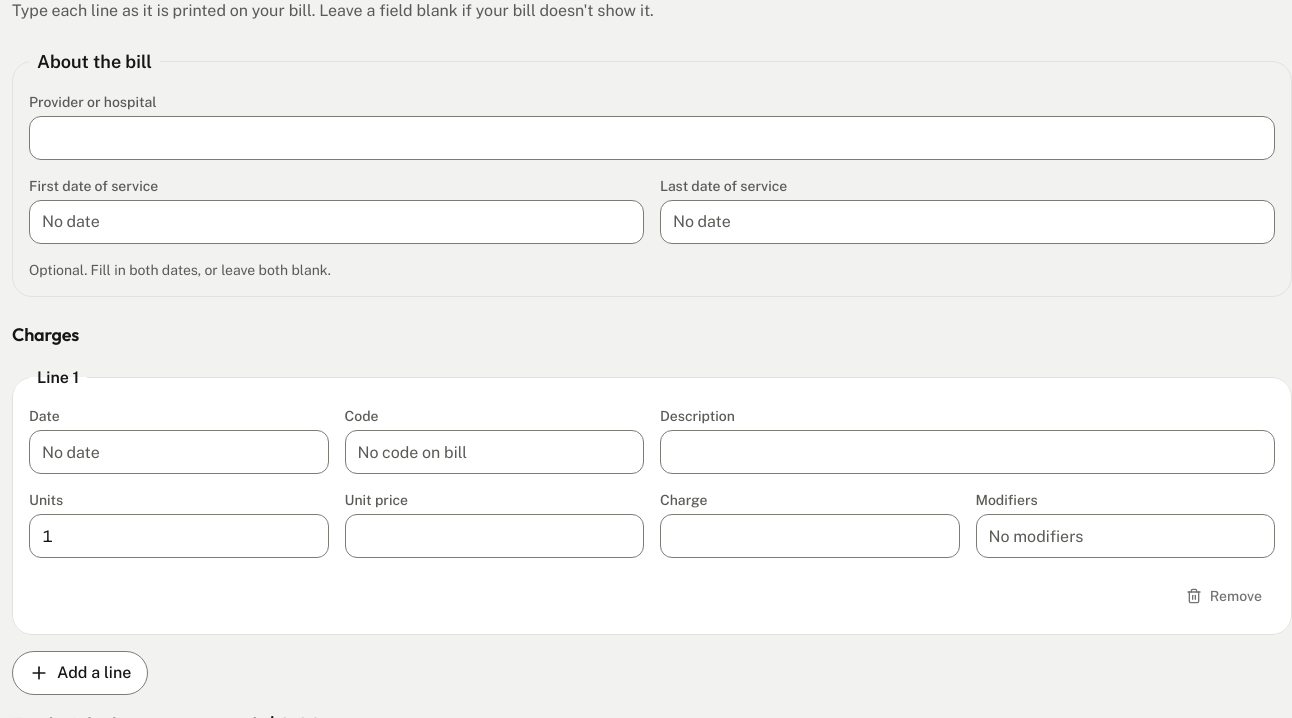
it: ManualEntryForm › shows a calm message and stays put when the server rejects
The image size is (1292, 718).
In the field labelled "Provider or hospital": (652, 138) [29, 116, 1275, 160], type "Synthetic Clinic"
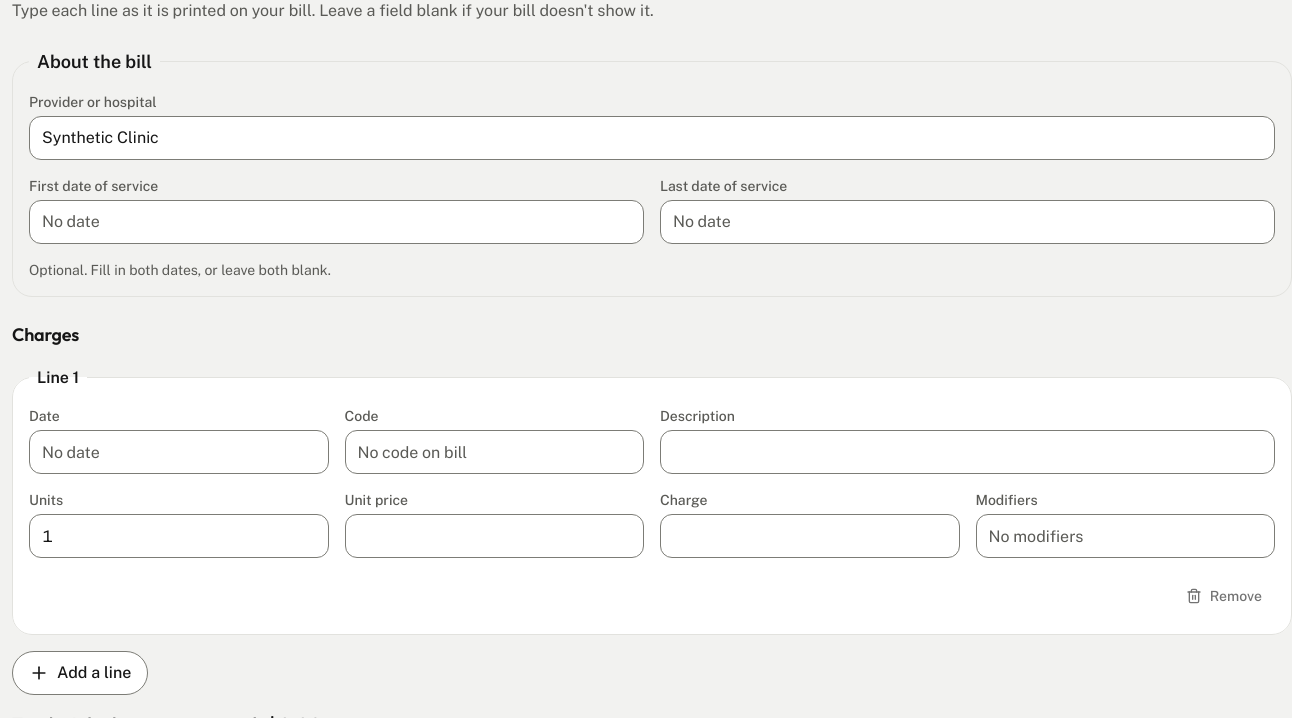
In the field named "Description, row 1": (968, 452) [660, 430, 1275, 474], type "SYNTHETIC VISIT"
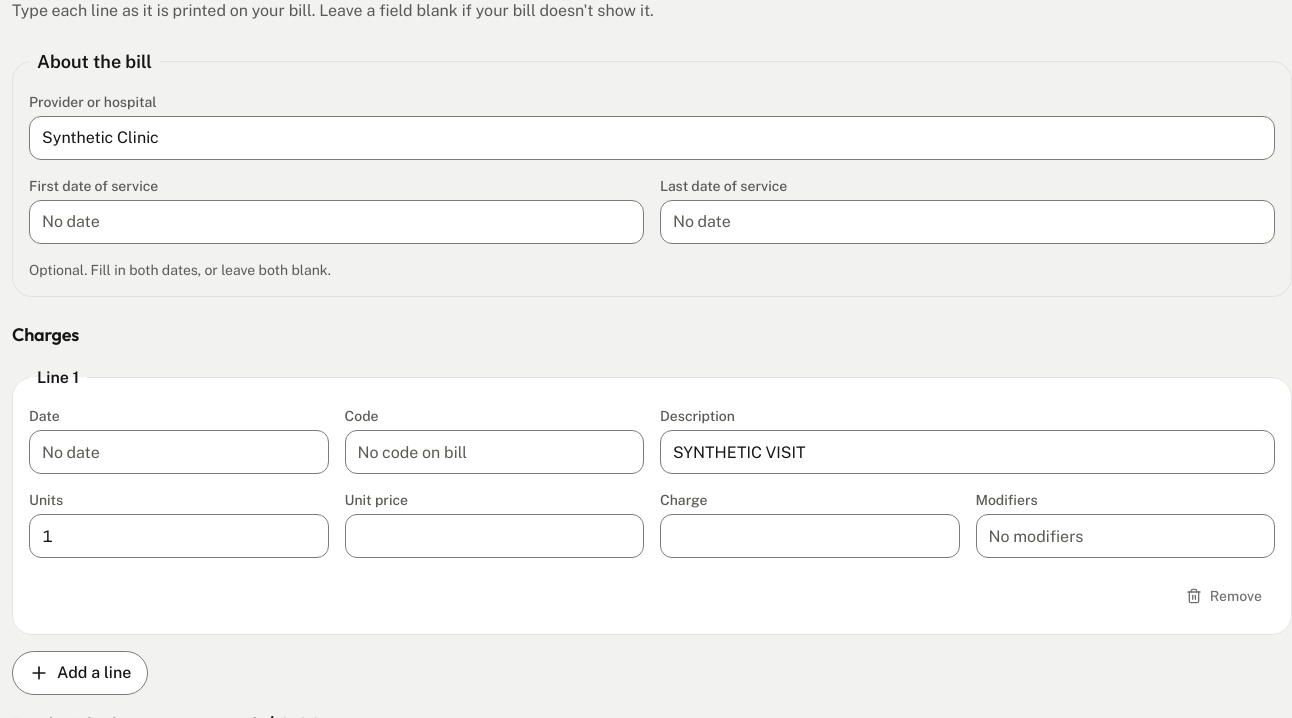
In the field named "Code, row 1": (494, 452) [344, 430, 644, 474], type "99213"
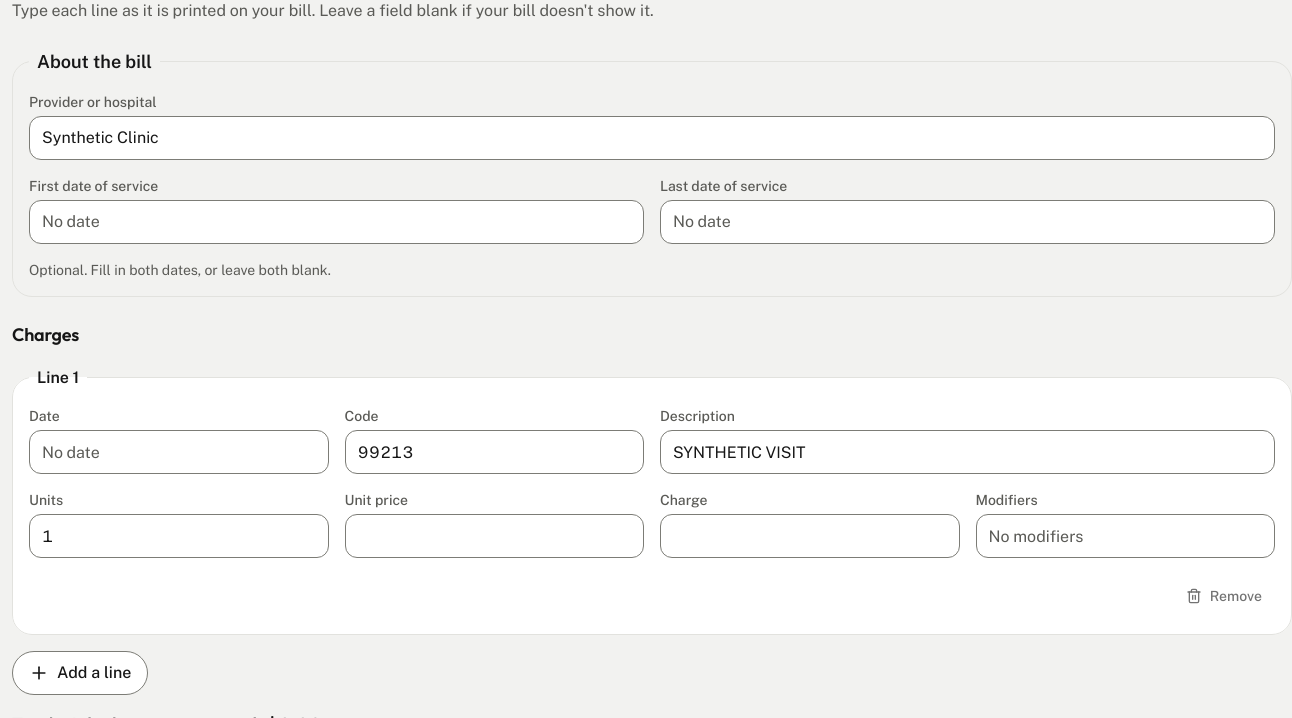
In the field named "Charge, row 1": (810, 536) [660, 514, 960, 558], type "125.00"
(page scrolled)
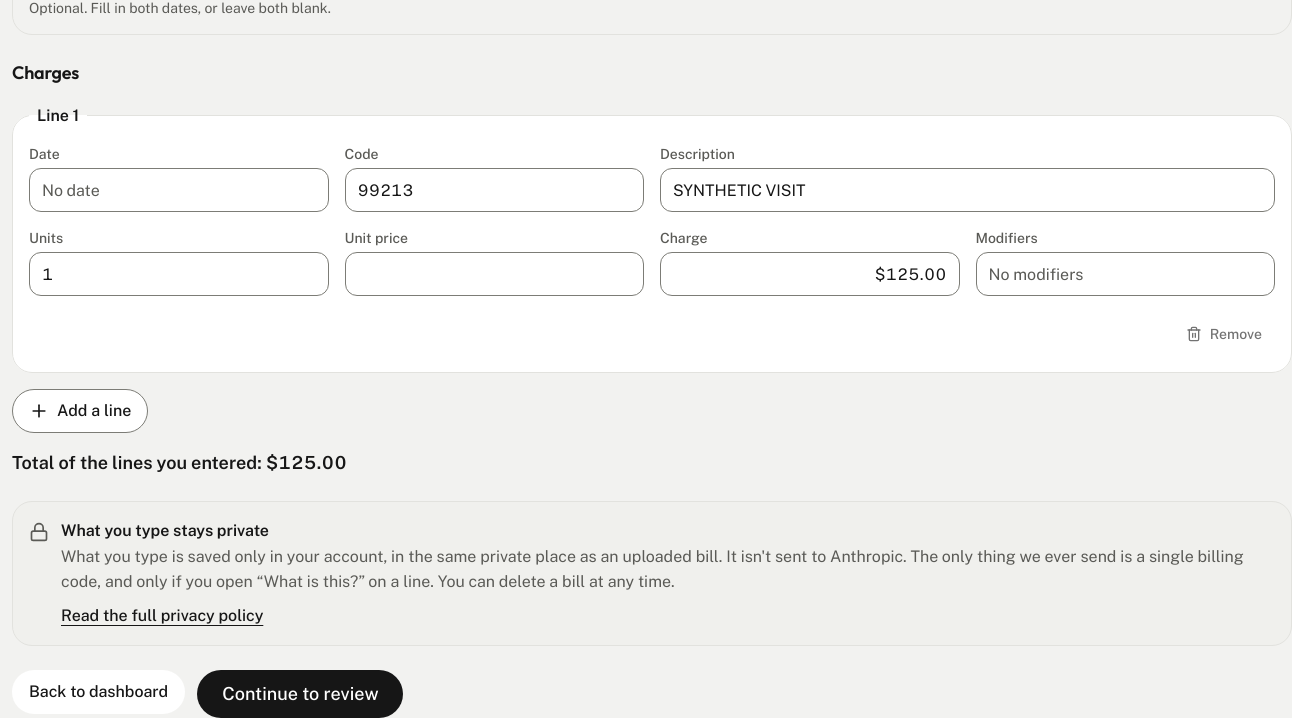
Click the button "Continue to review": click(300, 694) [197, 670, 404, 717]
(page scrolled)
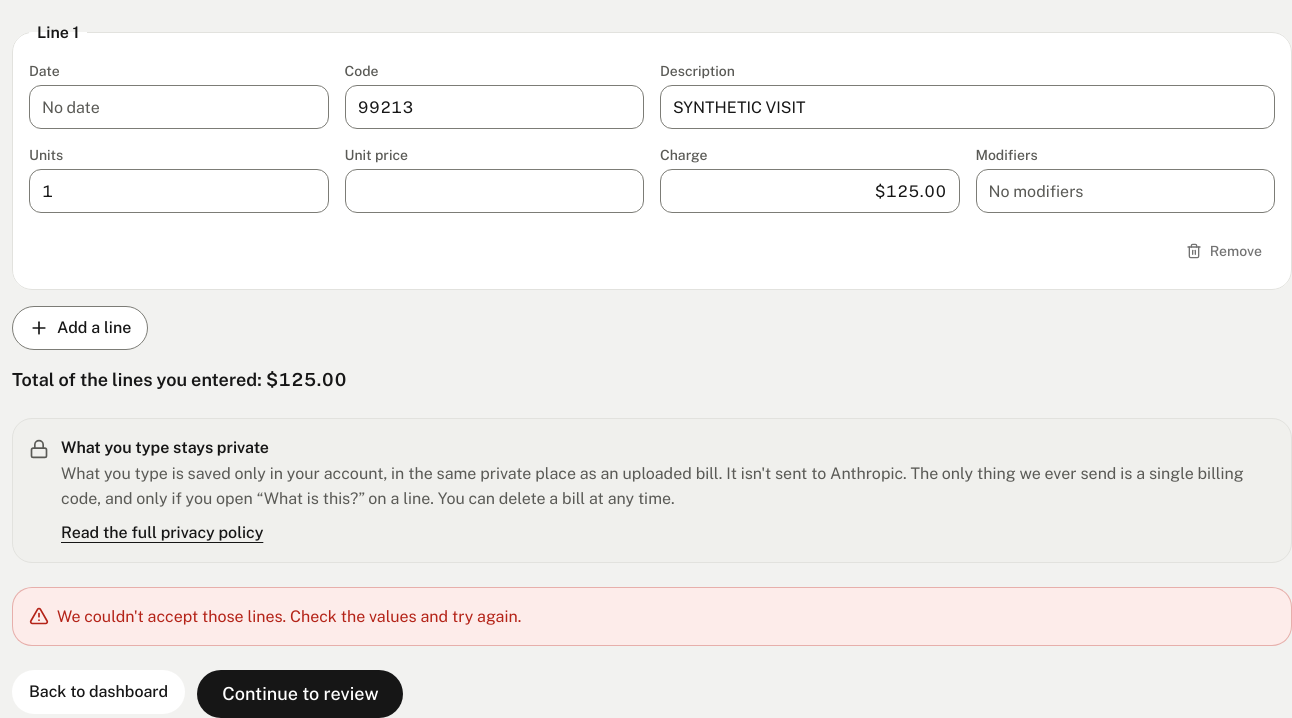
Check: the message shows "couldn't accept those lines", box [57, 607, 521, 626]
